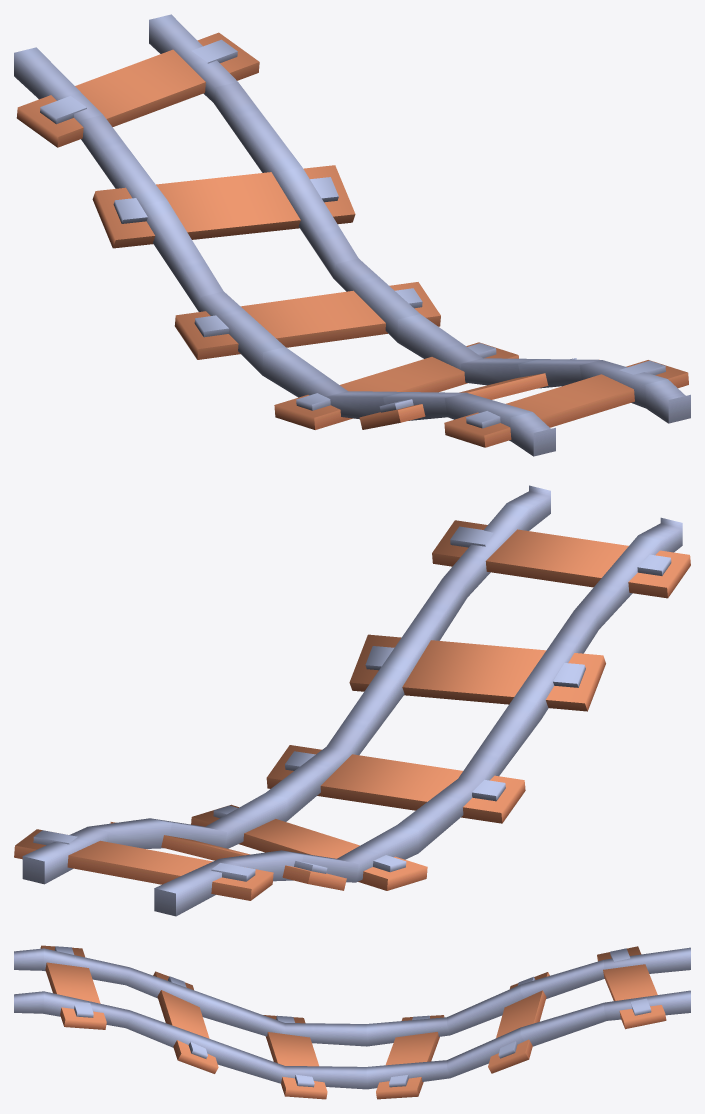
File: kenney-train-railroad-damaged-straight-bump-down.glb
The picture shows the model from 3 angles, top to bottom: view 1: azimuth 30°, elevation 25°; view 2: azimuth 150°, elevation 25°; view 3: azimuth 270°, elevation 25°; orthographic projection. The views are drawn at different scales.
Visible parts, largest first — view 1: railroad-damaged-straight-bump-down; view 2: railroad-damaged-straight-bump-down; view 3: railroad-damaged-straight-bump-down.
Part boxes in pixels (box(x1,y1,x2,y2)): railroad-damaged-straight-bump-down: box(14, 14, 690, 456); railroad-damaged-straight-bump-down: box(14, 485, 690, 916); railroad-damaged-straight-bump-down: box(14, 945, 690, 1099).
Size of the model in its own units: 1.03 by 0.606 by 4.
Materials: 1 (1 with a texture image).
